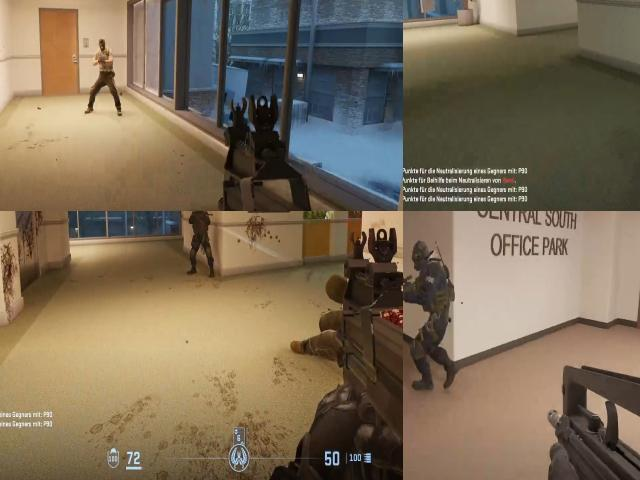CT: (404, 232, 450, 383), (187, 211, 211, 238)
CT-Head: (410, 236, 431, 273)
Dead: (296, 304, 342, 371)
T: (91, 32, 115, 89), (96, 36, 109, 55)
